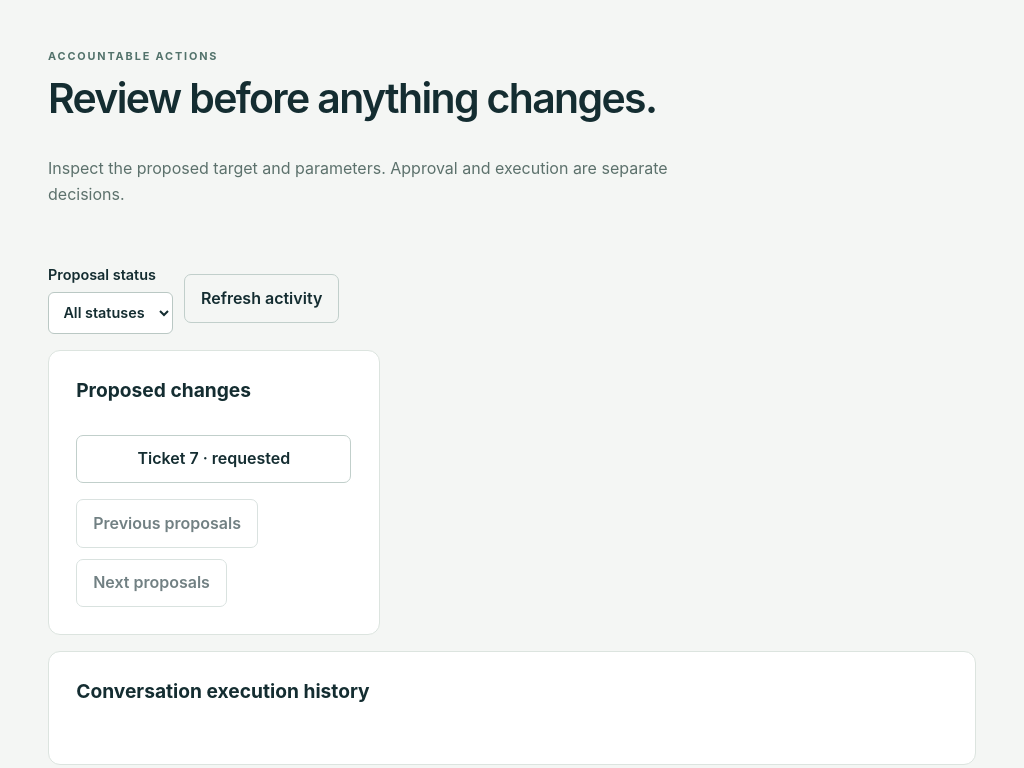
Scenario: regular users have no mutation controls
Step 1. Click the button "Ticket 7 · requested" → (214, 459), box [76,435,352,483]
(page scrolled)
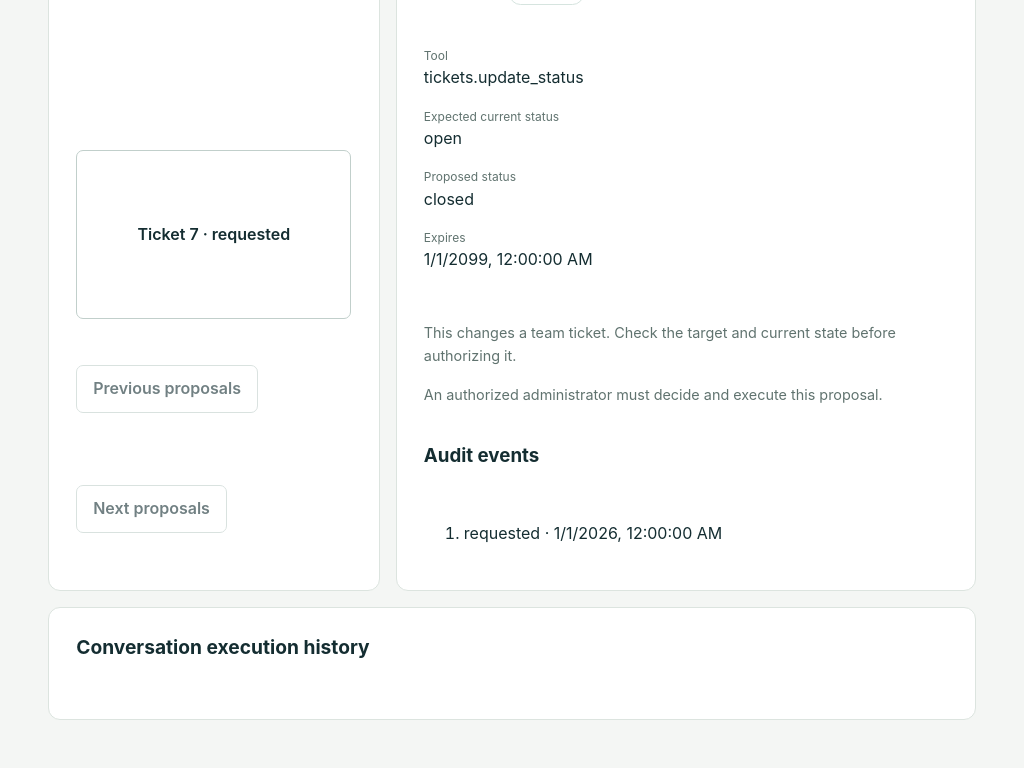
Check: the text "An authorized administrator must decide and execute this proposal." is shown, box [424,383,948,406]
